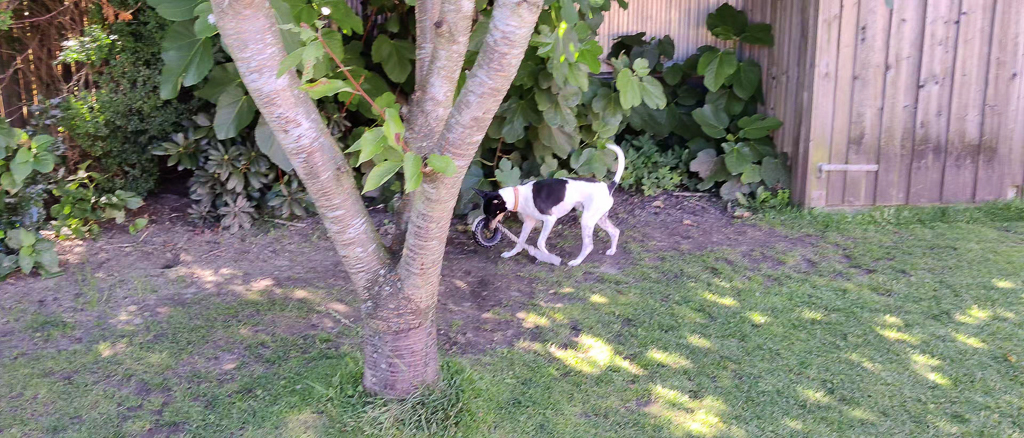Dog: (459, 135, 647, 274)
